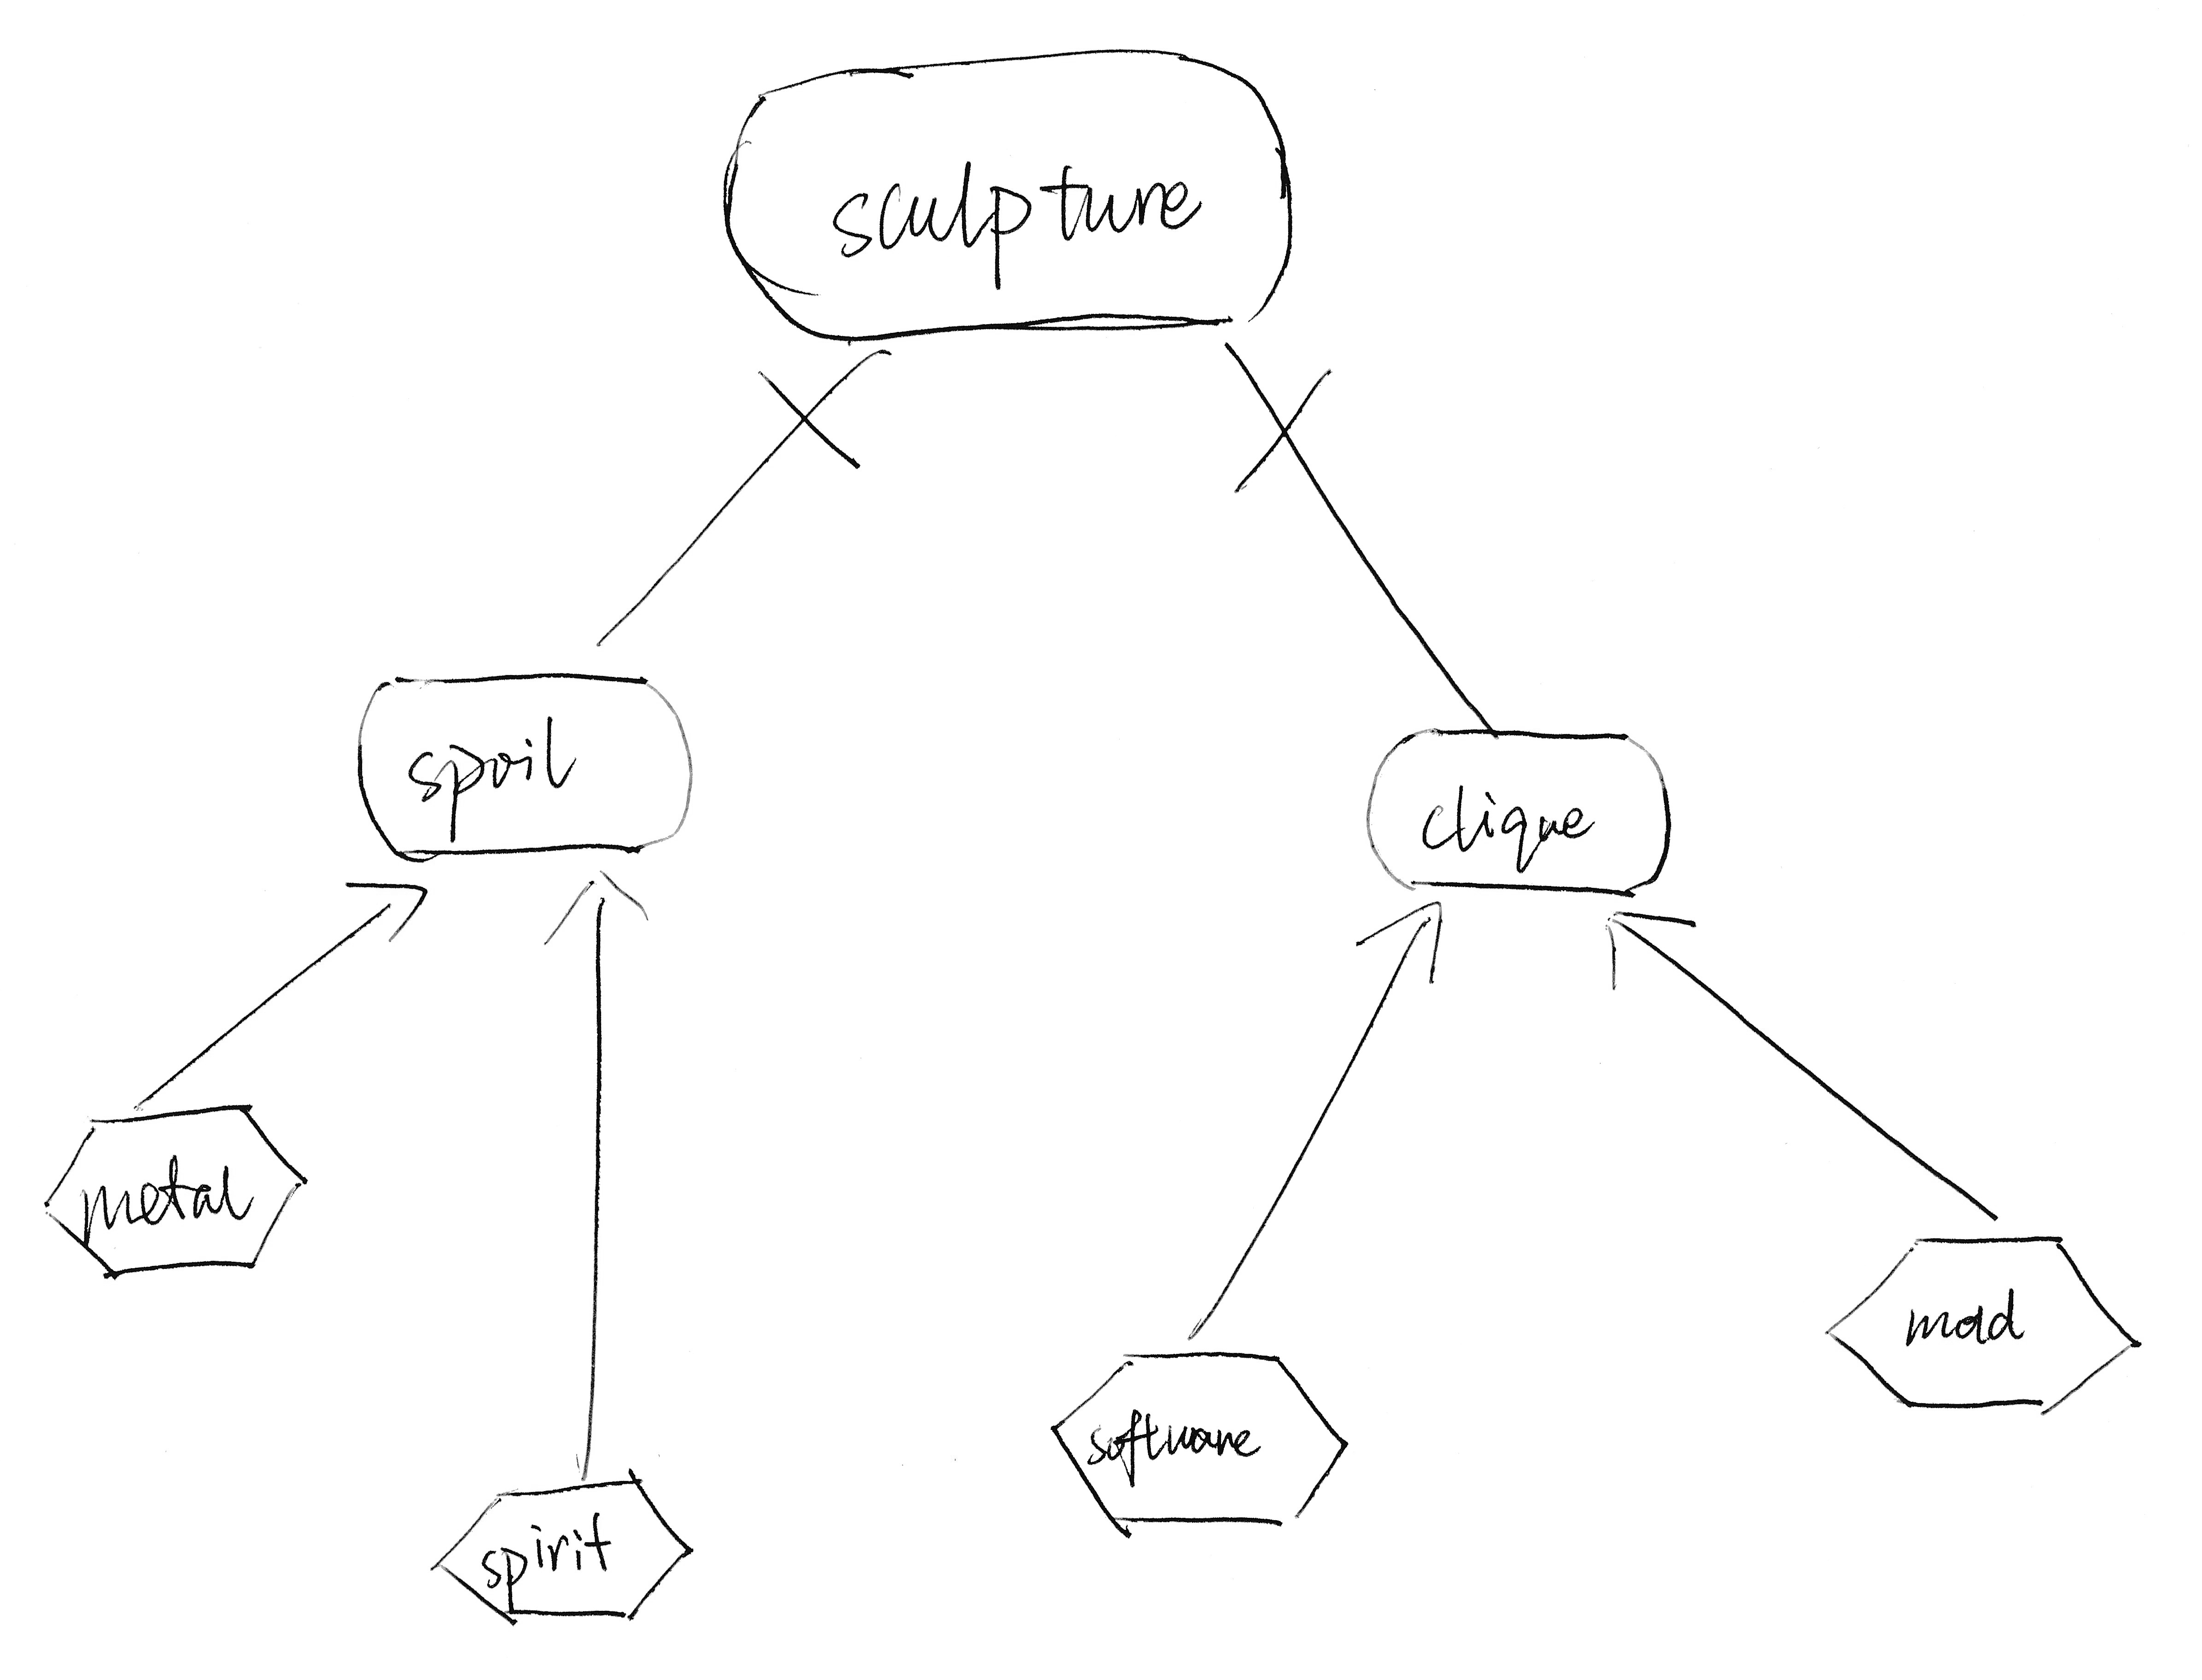and: (736, 342, 870, 494), (1226, 355, 1337, 506)
arrow: (531, 863, 662, 974), (1346, 891, 1463, 1009), (1590, 898, 1711, 1008), (328, 863, 434, 953)
goal: (709, 30, 1309, 353), (346, 653, 702, 868), (1353, 715, 1685, 909)
task: (1814, 1219, 2156, 1436), (1036, 1339, 1366, 1553), (26, 1091, 328, 1297), (409, 1468, 709, 1639)
